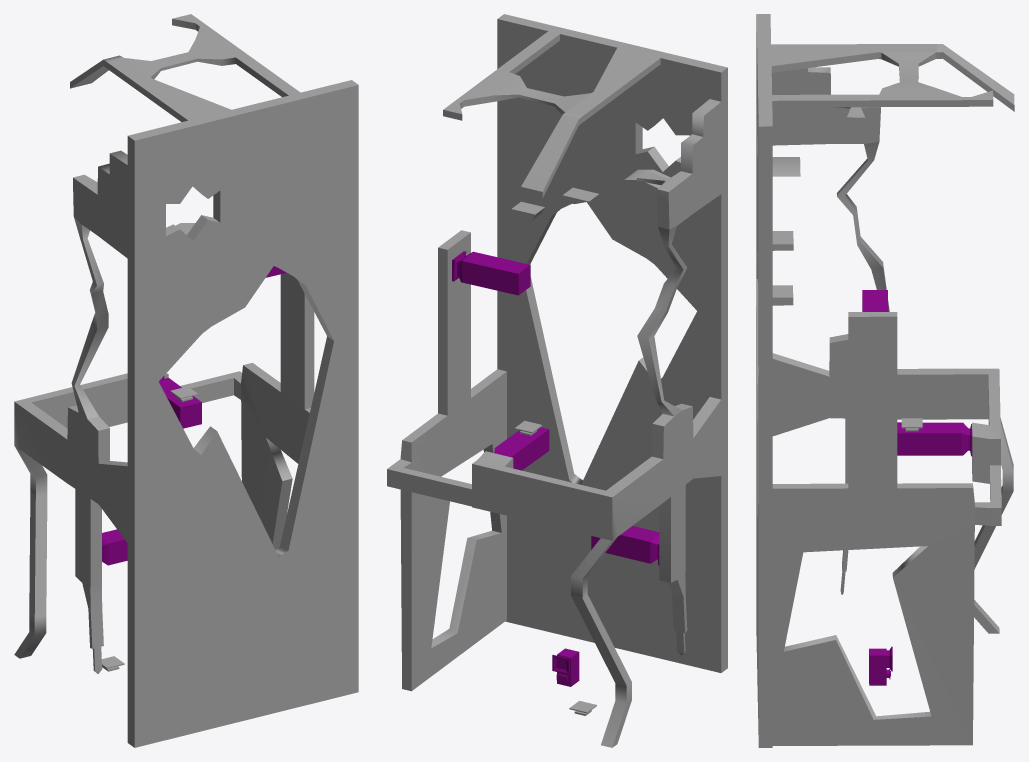
File: building test pt 5 (please Bloody Work!!!).fbx
The picture shows the model from 3 angles, left to right: view 1: azimuth 30°, elevation 25°; view 2: azimuth 150°, elevation 25°; view 3: azimuth 270°, elevation 25°; orthographic projection. The views are drawn at different scales.
Parts seen in each view (by area): view 1: pCube29, polySurface6, polySurface4; view 2: pCube29, polySurface7, polySurface4, polySurface6, pCube1; view 3: pCube29, polySurface6, pCube1, polySurface7.
Part boxes in pixels (left/top/right/bottom): pCube29: left=14, top=14, right=358, bottom=747; polySurface6: left=159, top=376, right=201, bottom=428; polySurface4: left=102, top=529, right=127, bottom=565; pCube29: left=387, top=14, right=727, bottom=747; polySurface7: left=452, top=251, right=530, bottom=295; polySurface4: left=591, top=526, right=659, bottom=565; polySurface6: left=491, top=427, right=549, bottom=470; pCube1: left=552, top=648, right=579, bottom=686; pCube29: left=756, top=14, right=1014, bottom=747; polySurface6: left=897, top=422, right=972, bottom=456; pCube1: left=869, top=646, right=892, bottom=685; polySurface7: left=862, top=290, right=888, bottom=311.
Size of the model in its own units: 13.6 by 34.77 by 13.08.
